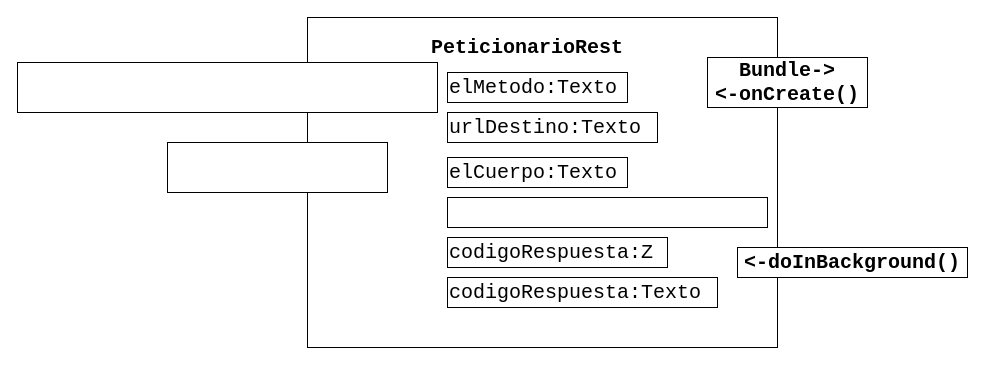
Image size: 985x365. Some labels were removed from this diagram. Each missing label, with the box of its shape:
laRespuesta:RespuestaREST: (446, 196, 768, 228)
Texto,Texto,Texto,RespuestaREST-> hacerPeticionREST()->: (16, 62, 438, 112)
V/F-> onPostExecute()->: (166, 142, 388, 192)
